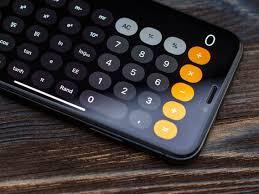Calculator: (0, 0, 219, 144)
